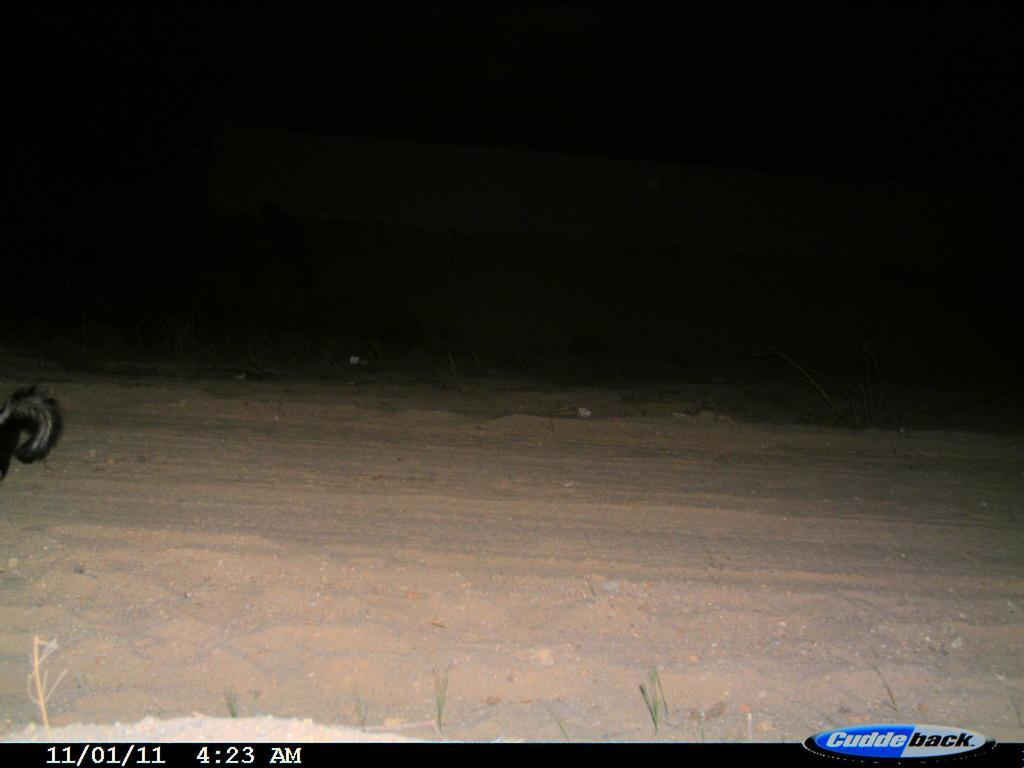skunk: (6, 376, 71, 487)
